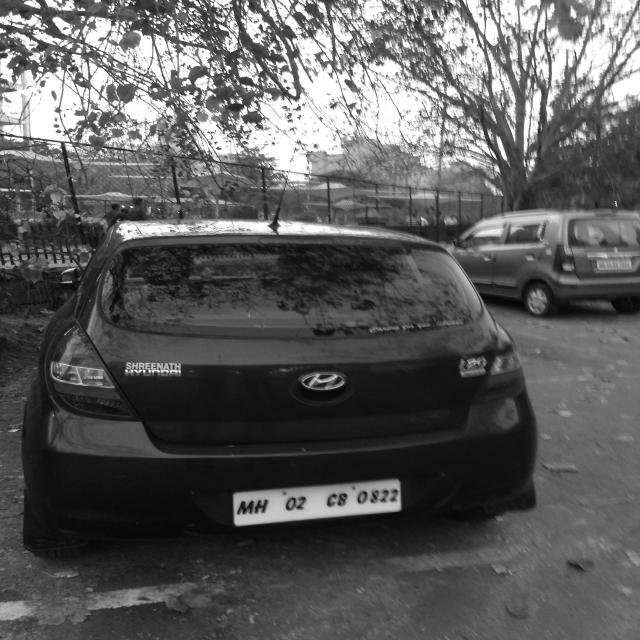car: (14, 214, 523, 546), (448, 202, 640, 309)
license-plate: (230, 476, 408, 524)
